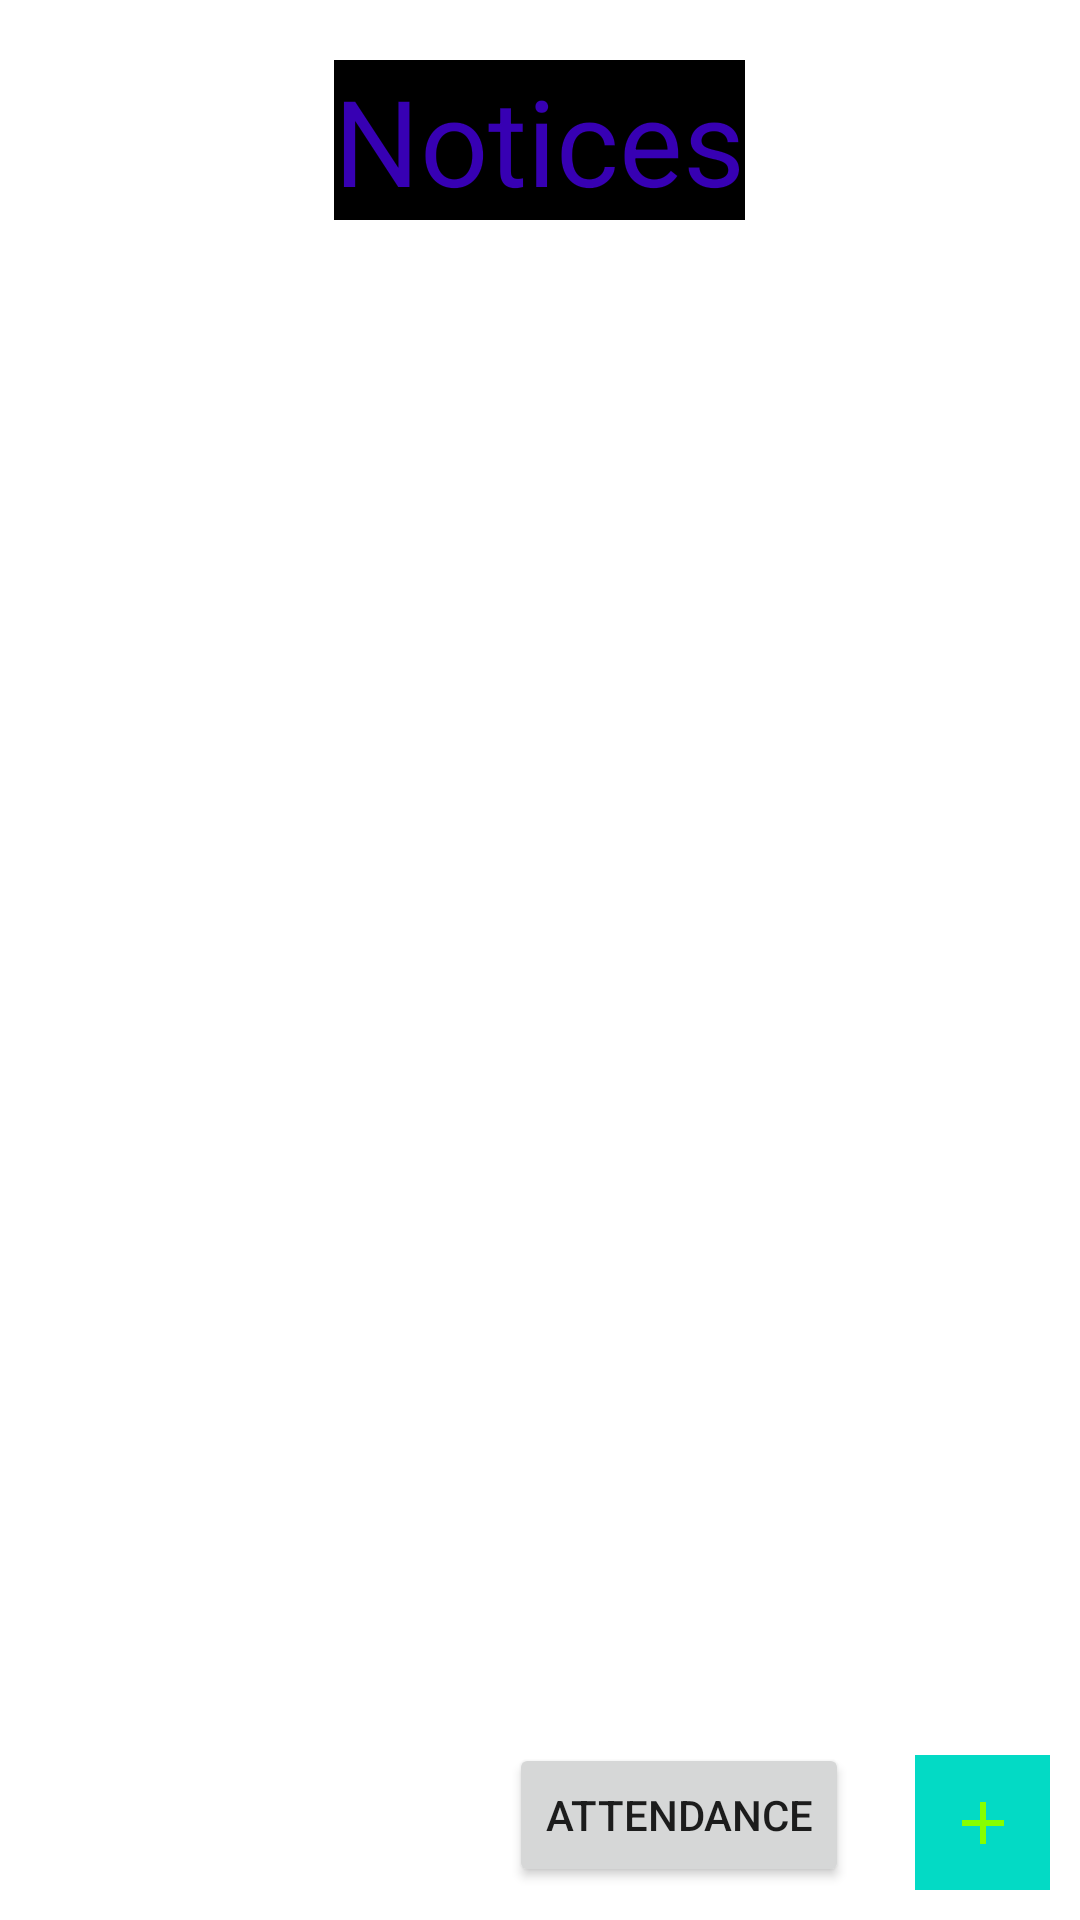

Named icons in this screenshot (1080w x 1920h) and their centers, (x=x, y=y):
add: (x=982, y=1822)
